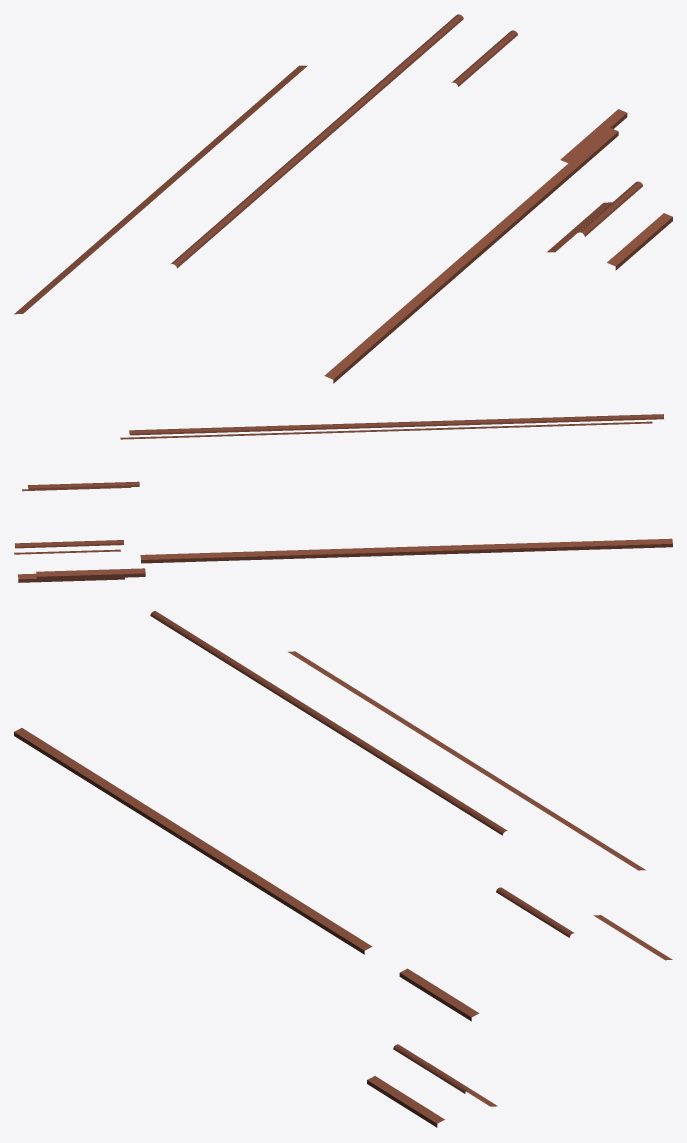
3 views of the same model, one above another, from view 1: azimuth 30°, elevation 25°; view 2: azimuth 150°, elevation 25°; view 3: azimuth 270°, elevation 25° (orthographic). The views are drawn at different scales.
Visible parts, largest first — view 1: detail; view 2: detail; view 3: detail.
Part boxes in pixels (box(x1,y1,x2,y2)): detail: box(14, 14, 672, 383); detail: box(14, 414, 672, 582); detail: box(14, 611, 672, 1127).
Bounding box in the file's own units: 27.03 × 7.99 × 21.98.
